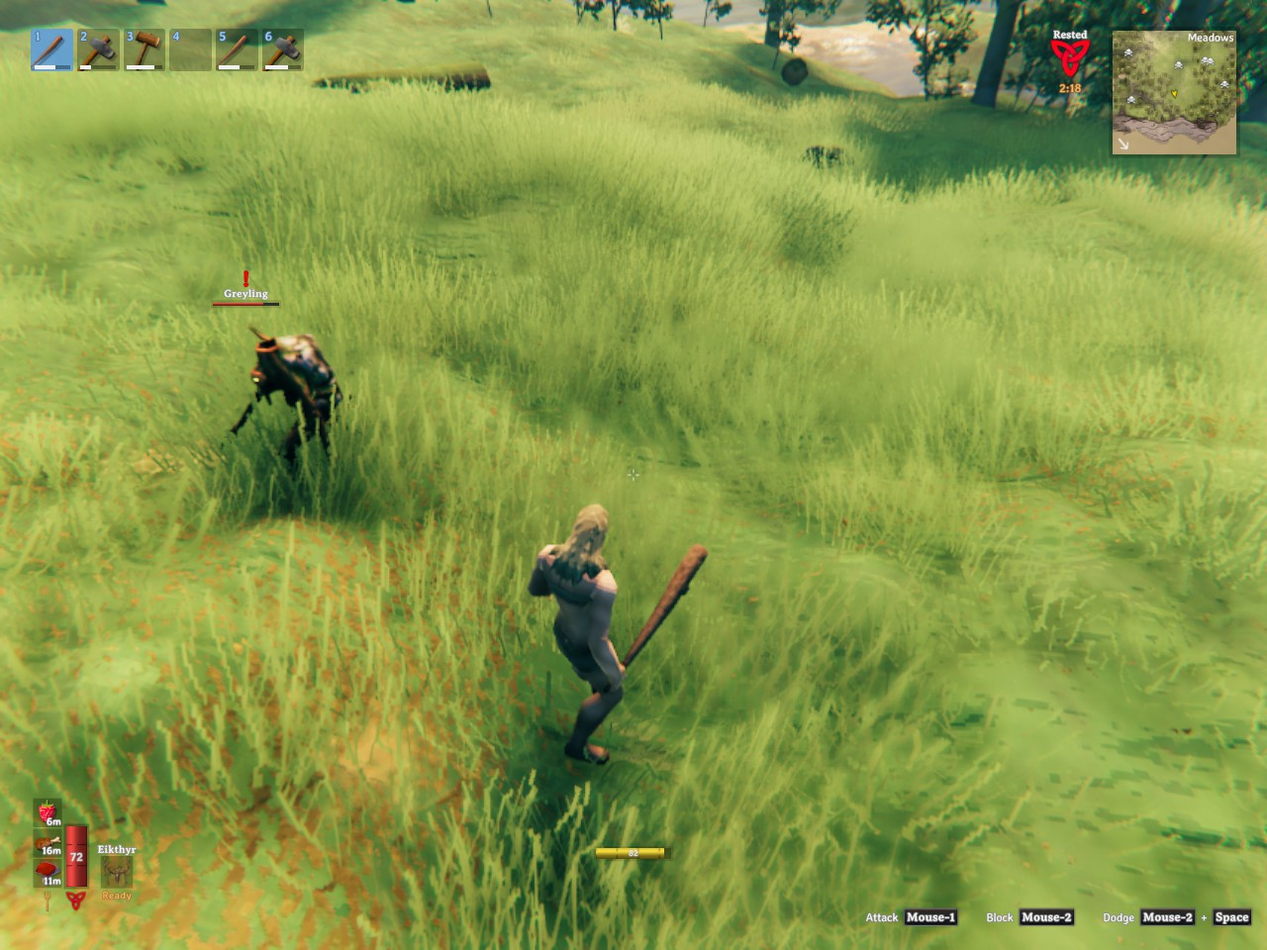Food Indicator: (36, 797, 63, 891)
Greyling: (250, 329, 341, 461)
Health Bar: (63, 820, 90, 891)
Hotbar: (25, 21, 398, 78)
Stamina Bar: (590, 841, 677, 865)
Status Indicator: (1039, 25, 1106, 101)
